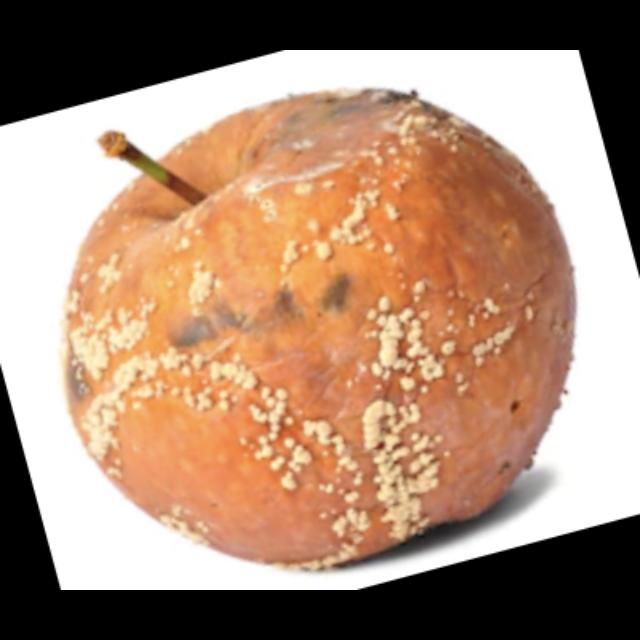Apel Tidak Segar: (42, 73, 618, 579)
